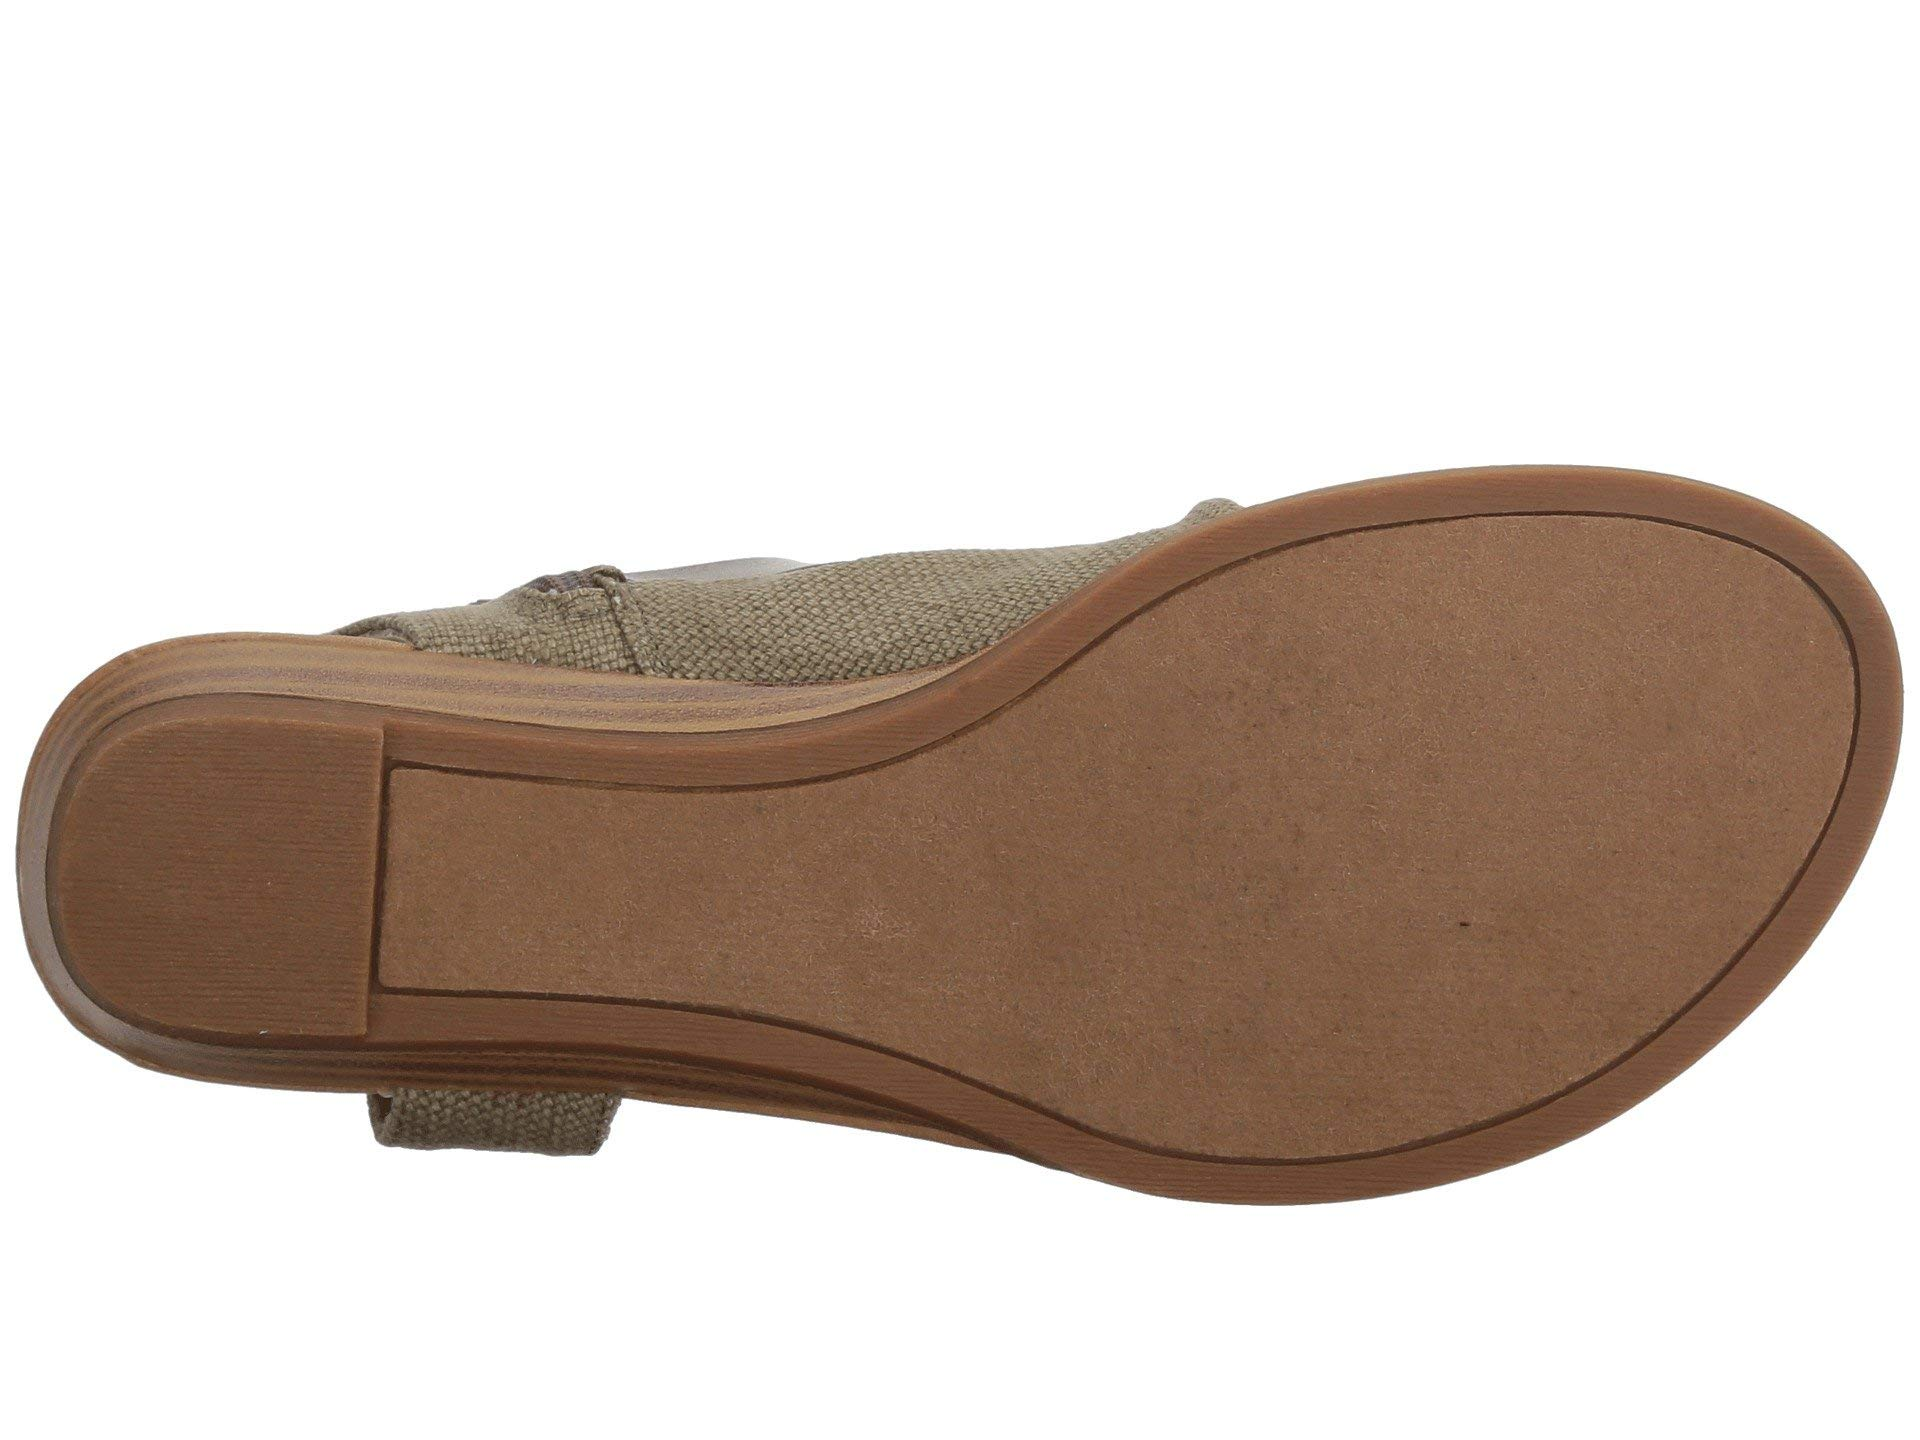other: (63, 725, 369, 1048)
